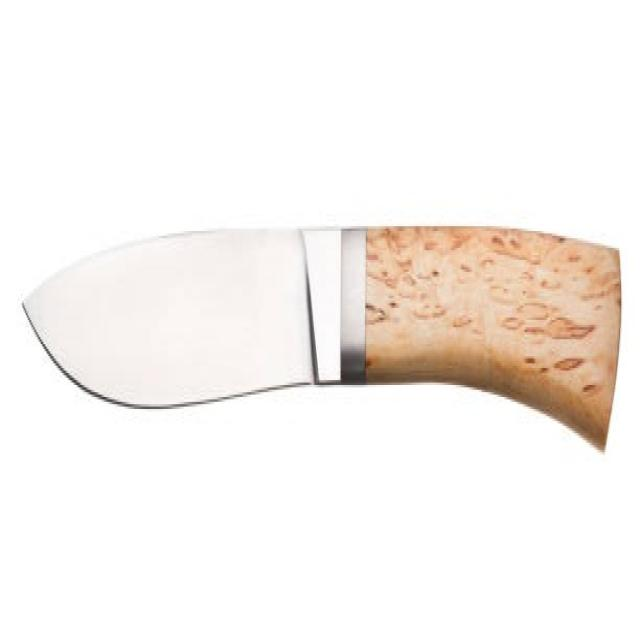knife: (16, 214, 627, 463)
